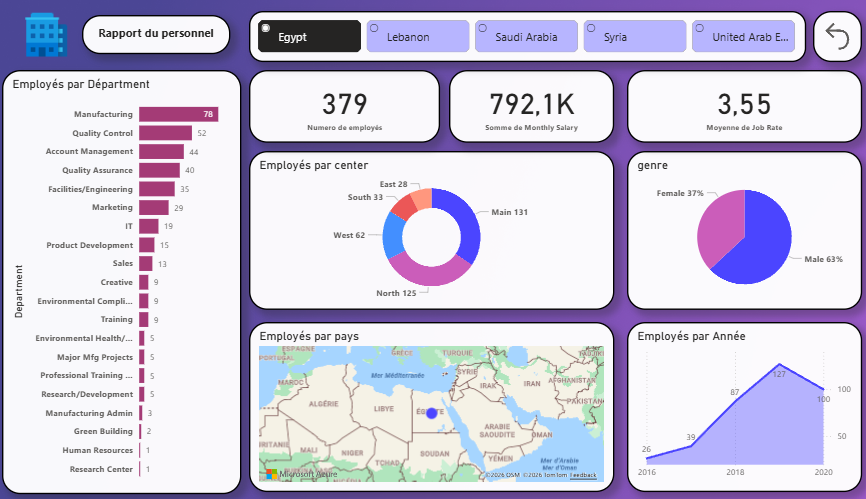

This screenshot's page, from the dashboard's own definition file:
{"tool":"powerbi","page":{"name":"Rapport du personnel","canvas":[1280,720],"ordinal":1},"visuals":[{"type":"clusteredBarChart","title":"Employés par Départment","fields":{"Category":["EmpTable.Department"],"Y":["CountNonNull(EmpTable.No)"]},"box":[14.5,101.6,342.5,606.3],"z":0},{"type":"donutChart","title":"Employés par center","fields":{"Category":["EmpTable.Center"],"Y":["CountNonNull(EmpTable.No)"]},"box":[366.7,216.6,521.5,227.5],"z":1000},{"type":"pieChart","title":"genre","fields":{"Category":["EmpTable.Gender"],"Y":["CountNonNull(EmpTable.Gender)"]},"box":[907.1,217.1,335.7,227.1],"z":2000},{"type":"azureMap","title":"Employés par pays","fields":{"Size":["Sum(EmpTable.No)"],"Category":["EmpTable.Country"]},"box":[366.7,461,521.5,243.2],"z":3000},{"type":"areaChart","title":"Employés par Année","fields":{"Y2":["CountNonNull(EmpTable.No)"],"Category":["EmpTable.Start Date.Variation.Hiérarchie de dates.Année","EmpTable.Start Date.Variation.Hiérarchie de dates.Trimestre","EmpTable.Start Date.Variation.Hiérarchie de dates.Mois","EmpTable.Start Date.Variation.Hiérarchie de dates.Jour"]},"box":[907.1,461.4,335.7,242.9],"z":4000},{"type":"card","fields":{"Values":["CountNonNull(EmpTable.No)"]},"box":[366.7,101.6,273.5,104.1],"z":5000},{"type":"card","fields":{"Values":["Sum(EmpTable.Monthly Salary)"]},"box":[652.2,101.6,236,104.1],"z":6000},{"type":"card","fields":{"Values":["Avg(EmpTable.Job Rate)"]},"box":[907.1,101.4,335.7,104.3],"z":7000},{"type":"advancedSlicerVisual","fields":{"Values":["EmpTable.Country"]},"box":[367.1,17.1,795.7,72.9],"z":8000},{"type":"textbox","box":[128.3,23,211.8,55.7],"z":9000},{"type":"image","box":[26.6,10.9,101.6,78.7],"z":10000},{"type":"actionButton","box":[1172.9,17.1,70,72.9],"z":10001}]}

Visuals, with their boxes in screenshot pixels (x1, y1, x2, y2), scaled from the page's 1280x720 canvas onto the 866x499 screenshot:
"Employés par Départment" clusteredBarChart: crop(10, 70, 242, 491)
"Employés par center" donutChart: crop(248, 150, 601, 308)
"genre" pieChart: crop(614, 150, 841, 308)
"Employés par pays" azureMap: crop(248, 319, 601, 488)
"Employés par Année" areaChart: crop(614, 320, 841, 488)
card - CountNonNull(EmpTable.No): crop(248, 70, 433, 143)
card - Sum(EmpTable.Monthly Salary): crop(441, 70, 601, 143)
card - Avg(EmpTable.Job Rate): crop(614, 70, 841, 143)
advancedSlicerVisual - EmpTable.Country: crop(248, 12, 787, 62)
textbox: crop(87, 16, 230, 55)
image: crop(18, 8, 87, 62)
actionButton: crop(794, 12, 841, 62)
